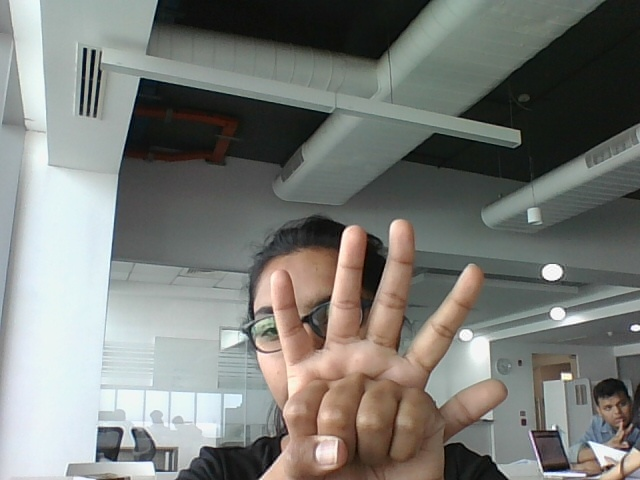coronavirus: (268, 217, 511, 478)
